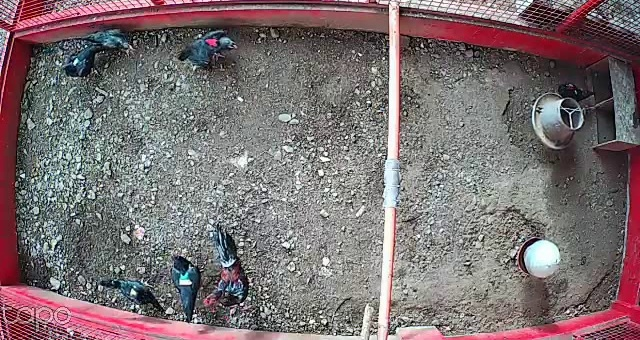Chicken: (97, 272, 169, 314), (163, 252, 202, 325), (178, 28, 239, 73), (60, 22, 136, 56), (61, 43, 104, 79), (554, 82, 599, 105)
Rooster: (204, 225, 258, 316)
Saddle_Color_Red: (205, 38, 219, 46)
Saddle_Color_White: (72, 60, 81, 67)
Saddle_Color_Yellow: (130, 287, 138, 297)
Saddle_Color_YellowGreen: (177, 274, 194, 288)
